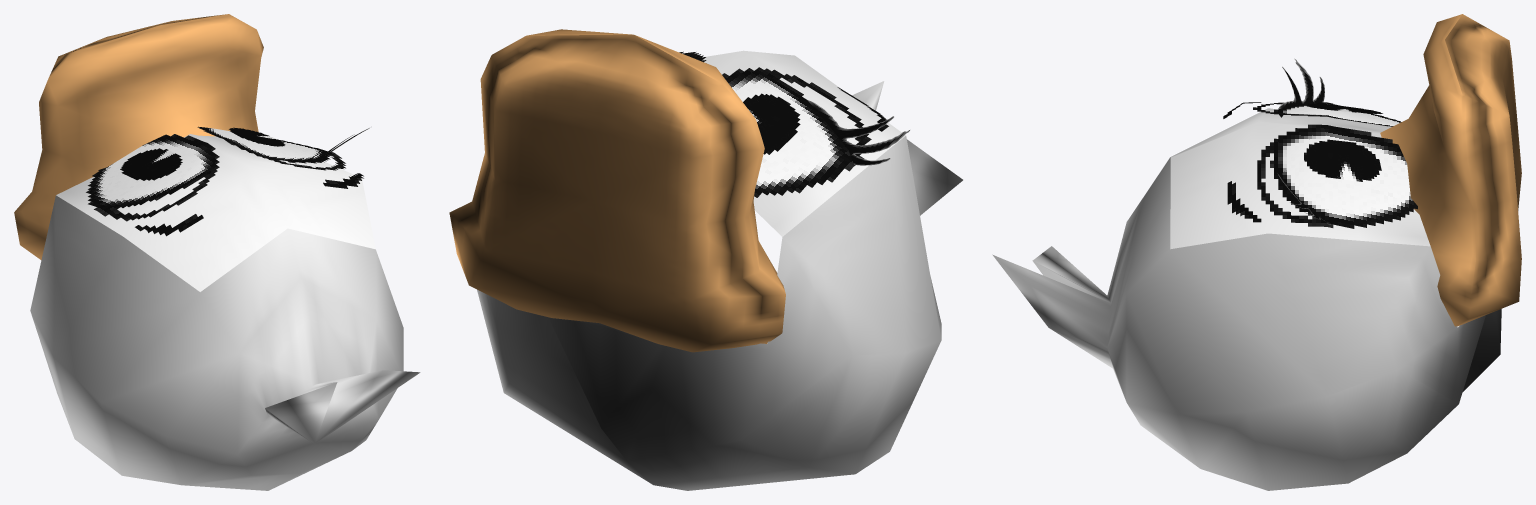
The model's file is fss.glb.
3 renders of one model, left to right at view 1: azimuth 30°, elevation 25°; view 2: azimuth 150°, elevation 25°; view 3: azimuth 270°, elevation 25°, orthographic. The views are drawn at different scales.
Parts seen in each view (by area): view 1: head-short, muzzle-short-neutral, head-front-short, eyes-short, joint_pupilL_short, joint_pupilR_short; view 2: muzzle-short-neutral, head-short, eyes-short, head-front-short, joint_pupilL_short, eyelashes; view 3: head-short, muzzle-short-neutral, head-front-short, eyes-short, joint_pupilR_short, eyelashes.
Boxes of the visible parts, x1=… form: head-short: x1=30, y1=195, x2=420, y2=490; muzzle-short-neutral: x1=14, y1=14, x2=263, y2=259; head-front-short: x1=56, y1=134, x2=375, y2=291; eyes-short: x1=86, y1=126, x2=363, y2=236; joint_pupilL_short: x1=120, y1=148, x2=182, y2=180; joint_pupilR_short: x1=229, y1=127, x2=285, y2=146; muzzle-short-neutral: x1=449, y1=29, x2=785, y2=352; head-short: x1=477, y1=81, x2=962, y2=490; eyes-short: x1=679, y1=51, x2=888, y2=197; head-front-short: x1=702, y1=50, x2=905, y2=236; joint_pupilL_short: x1=743, y1=93, x2=800, y2=154; eyelashes: x1=807, y1=100, x2=909, y2=165; head-short: x1=992, y1=157, x2=1501, y2=490; muzzle-short-neutral: x1=1380, y1=14, x2=1521, y2=326; head-front-short: x1=1170, y1=108, x2=1430, y2=249; eyes-short: x1=1223, y1=102, x2=1417, y2=228; joint_pupilR_short: x1=1304, y1=139, x2=1381, y2=181; eyelashes: x1=1278, y1=58, x2=1330, y2=224.
Bounding box in the file's own units: 1.39 × 1.63 × 1.82.
Materials: 5 (5 with a texture image).
